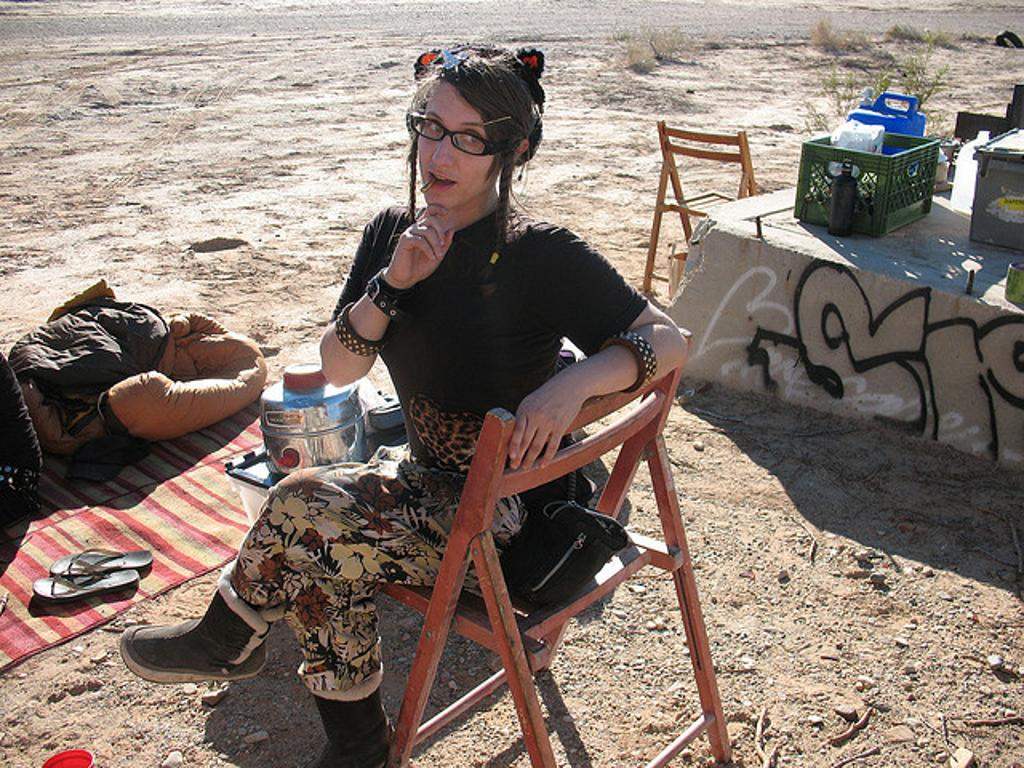face: (422, 84, 502, 206)
